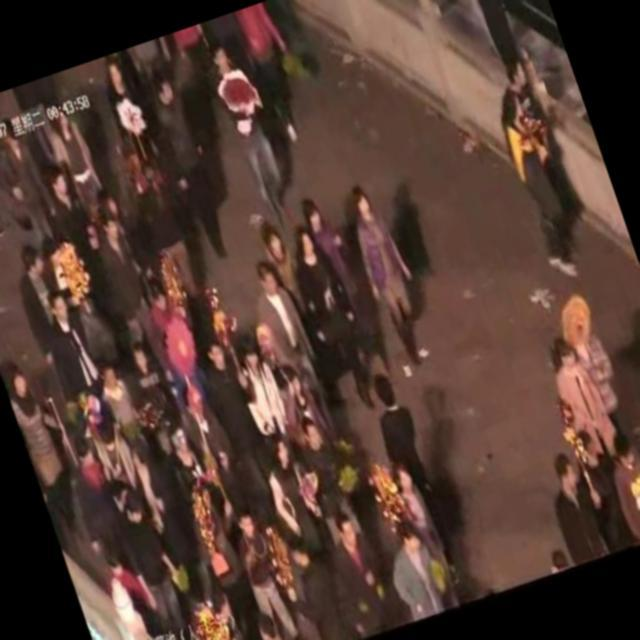person: (480, 50, 599, 288), (194, 35, 308, 242), (138, 67, 248, 277), (337, 176, 444, 375), (0, 347, 103, 551), (282, 214, 384, 416), (250, 212, 348, 404), (299, 188, 398, 376), (242, 258, 345, 432), (90, 46, 187, 224), (115, 486, 207, 640), (233, 0, 322, 158), (360, 362, 446, 519), (223, 503, 312, 640), (32, 275, 120, 413), (315, 505, 401, 640), (539, 328, 622, 462), (563, 417, 640, 559), (58, 435, 136, 568), (373, 507, 458, 628), (0, 100, 66, 243), (8, 242, 82, 366), (375, 456, 448, 576), (537, 445, 607, 570), (41, 98, 114, 211), (448, 0, 535, 83), (597, 417, 640, 549), (166, 22, 220, 90), (0, 101, 22, 253), (126, 34, 183, 91), (243, 594, 303, 640)
